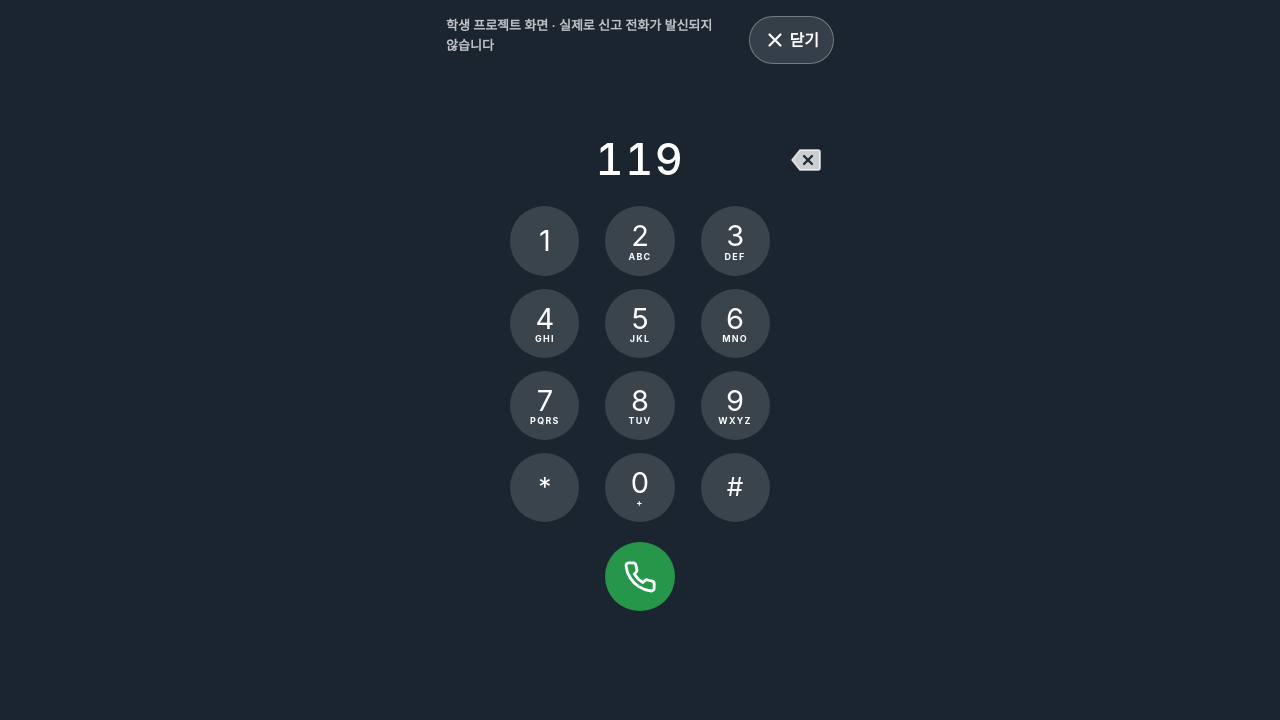
Emergency119Dialpad (Chrome) › 열리면 119가 입력돼 있고, 키 입력·지우기가 된다
Expected: the text named "입력된 번호" reads "119", [595, 133, 684, 185]
Click the button "2 ABC".
click(640, 241)  # box [605, 206, 674, 276]
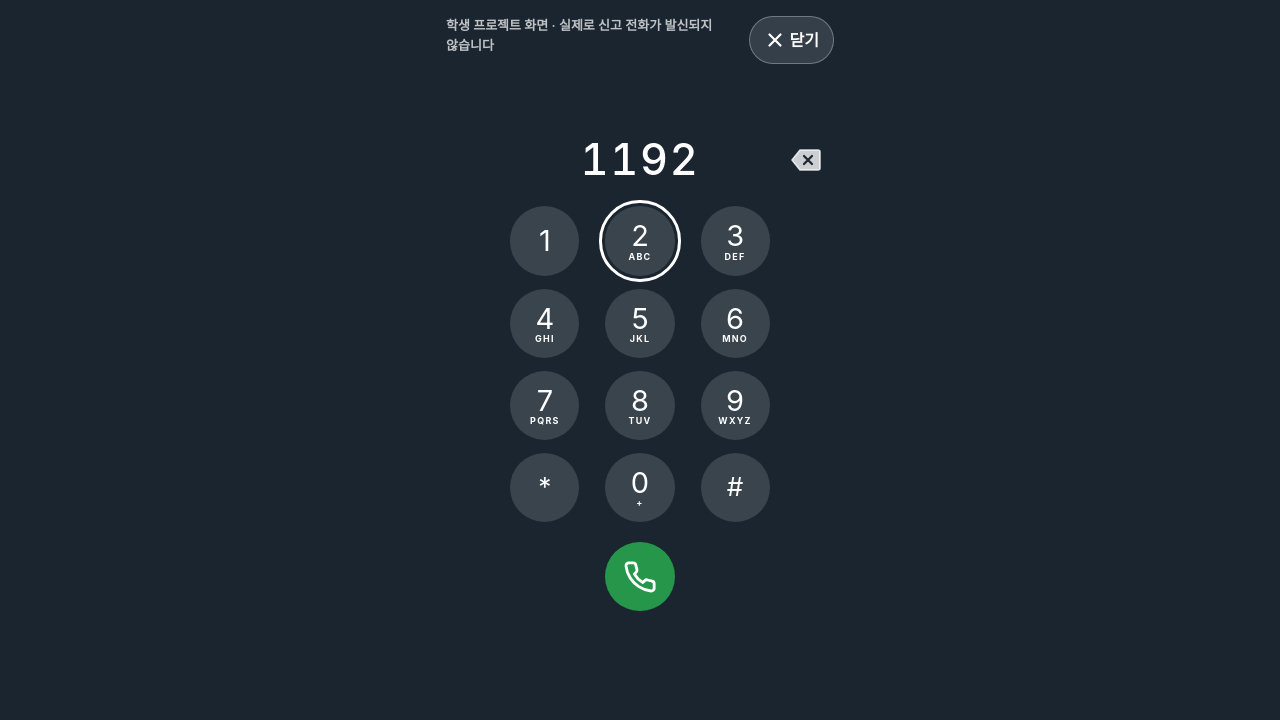
Click the button named "별표".
click(545, 487)  # box [510, 453, 579, 522]
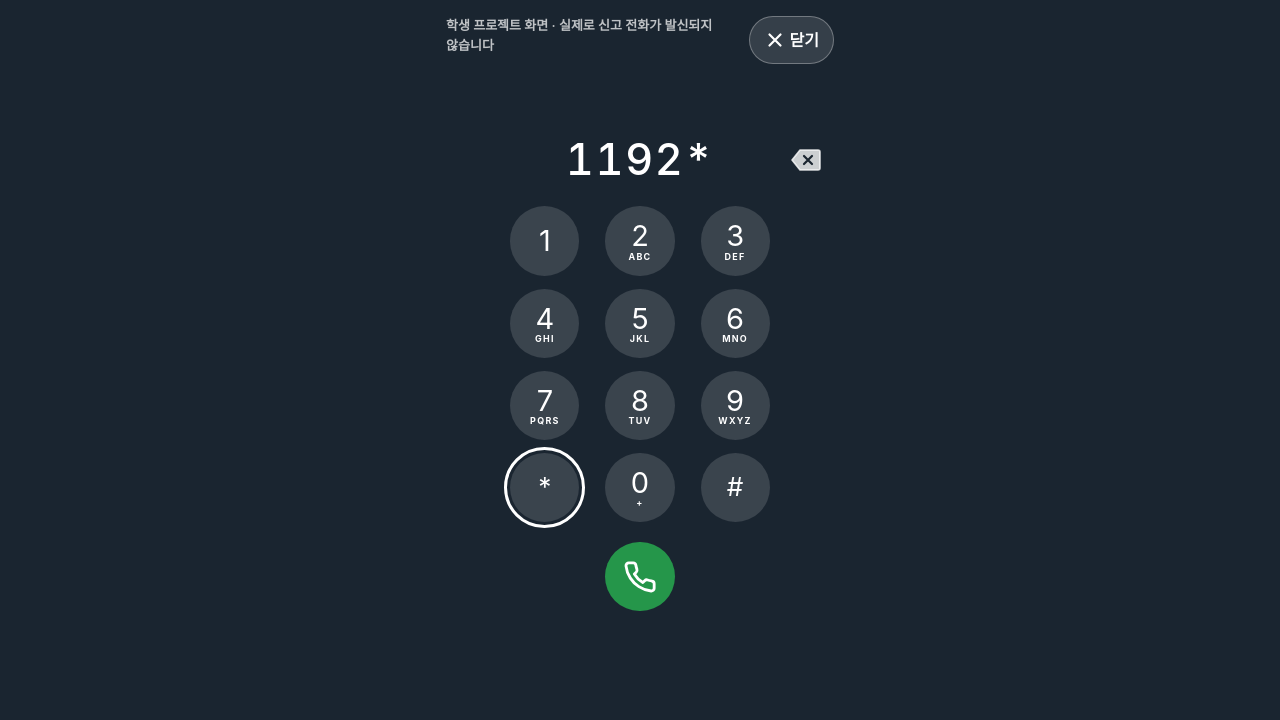
Expected: the text named "입력된 번호" reads "1192*", [566, 133, 714, 185]
Click the button named "한 글자 지우기".
click(806, 160)  # box [778, 132, 834, 188]
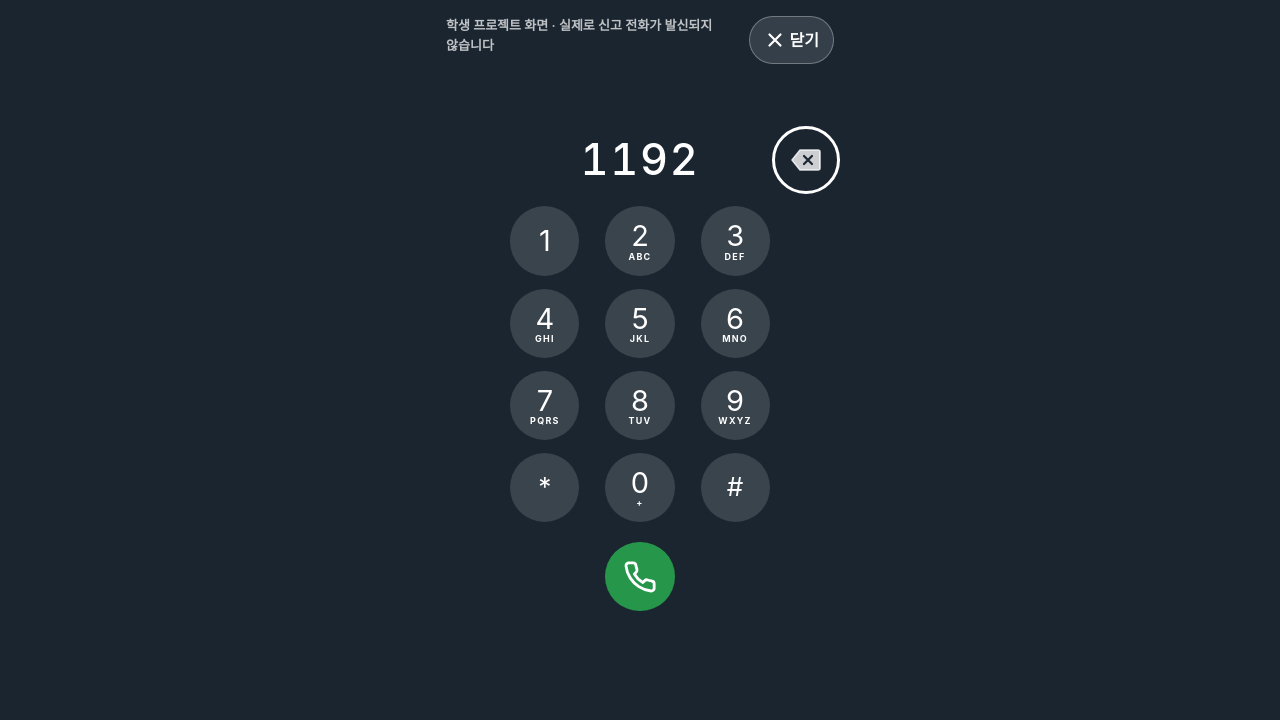
Click the button named "한 글자 지우기".
click(806, 160)  # box [778, 132, 834, 188]
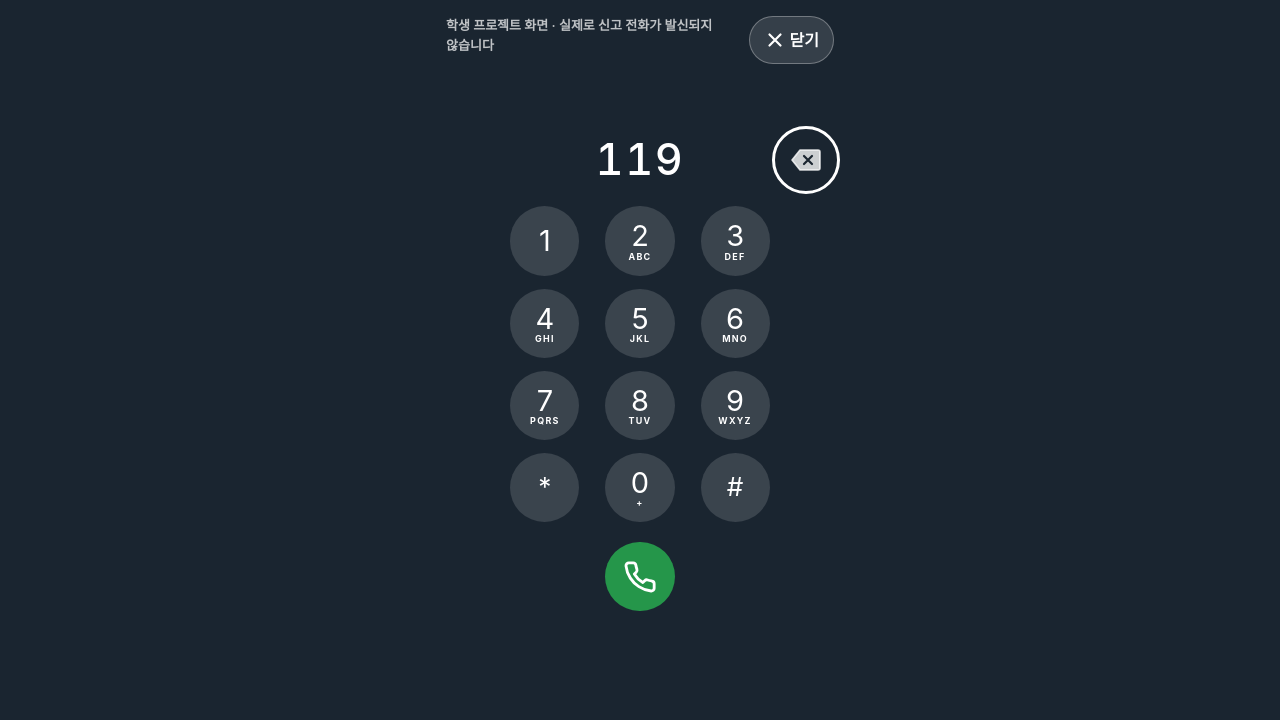
Expected: the text named "입력된 번호" reads "119", [595, 133, 684, 185]
